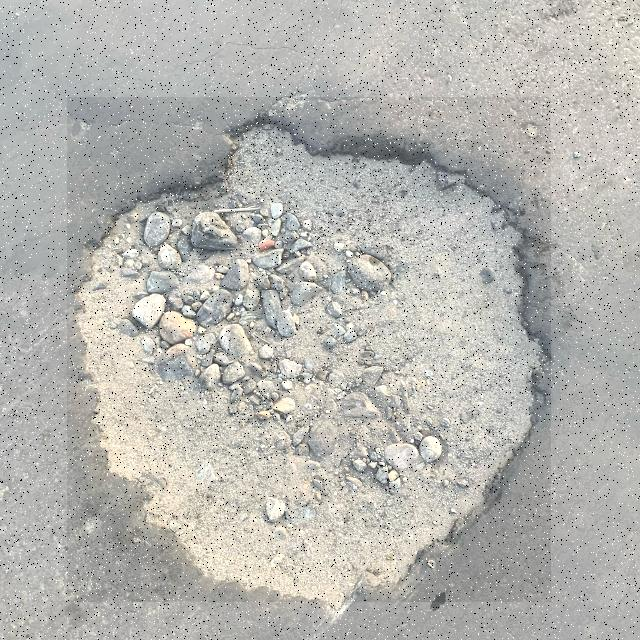damaged: (67, 97, 551, 602)
